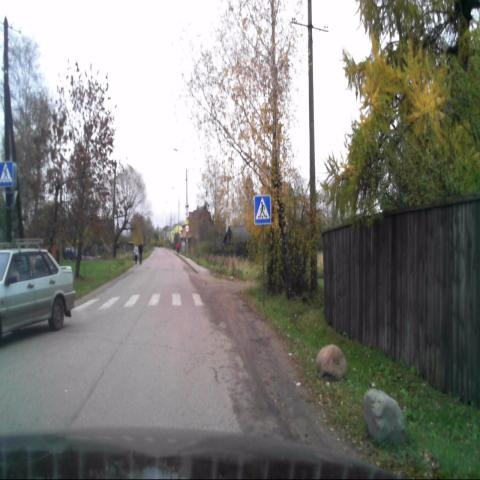5_19_1: (253, 193, 271, 226), (0, 158, 12, 184)
